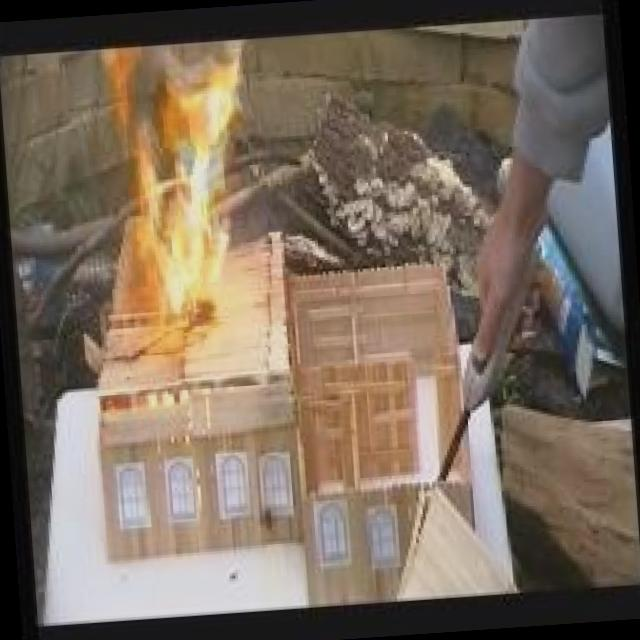fire: (94, 39, 266, 346)
